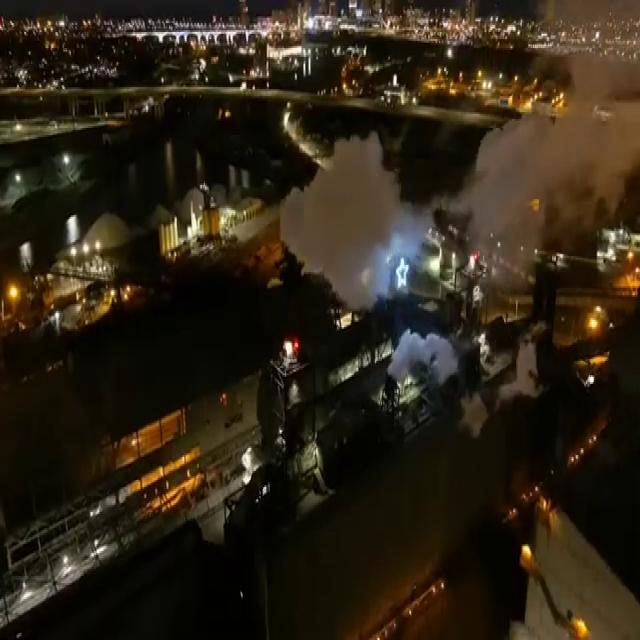smoke: (470, 117, 635, 283), (288, 133, 405, 308), (389, 327, 460, 400)
